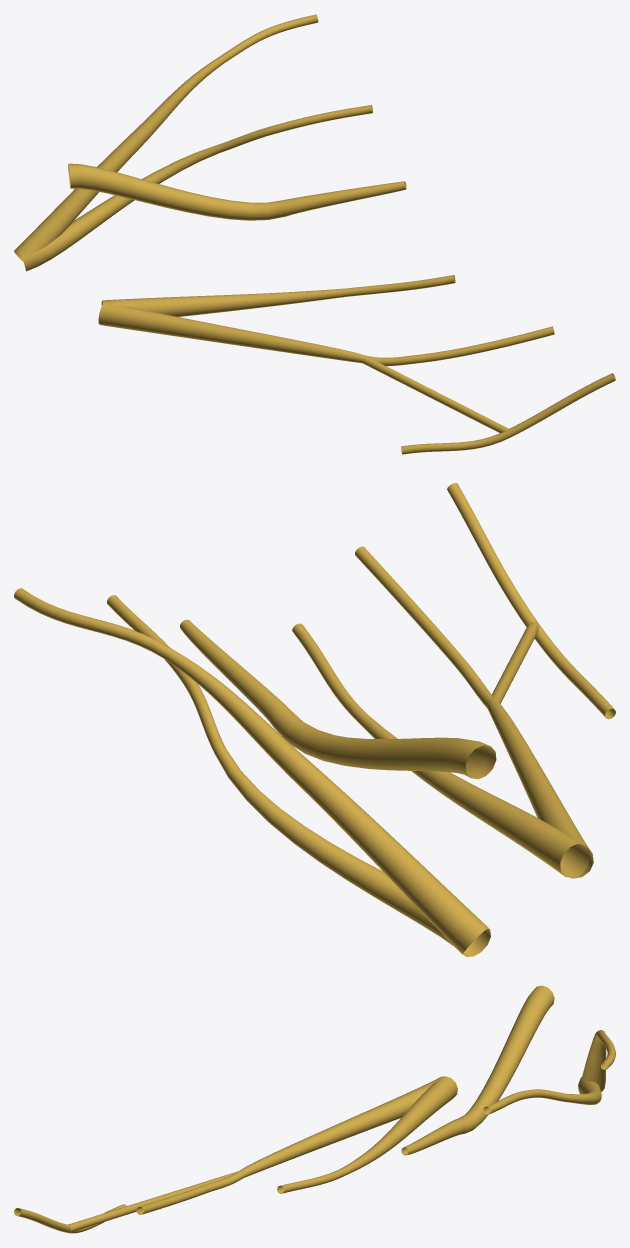
3 renders of one model, top to bottom at view 1: azimuth 30°, elevation 25°; view 2: azimuth 150°, elevation 25°; view 3: azimuth 270°, elevation 25°, orthographic. The views are drawn at different scales.
Parts seen in each view (by area): view 1: 右侧臂丛根; view 2: 右侧臂丛根; view 3: 右侧臂丛根.
Boxes of the visible parts, x1,y1,x2,y2 form: 右侧臂丛根: (14, 14, 615, 454); 右侧臂丛根: (14, 483, 615, 956); 右侧臂丛根: (14, 985, 615, 1233).
Size of the model in its own units: 0.0633 by 0.0437 by 0.1056.
